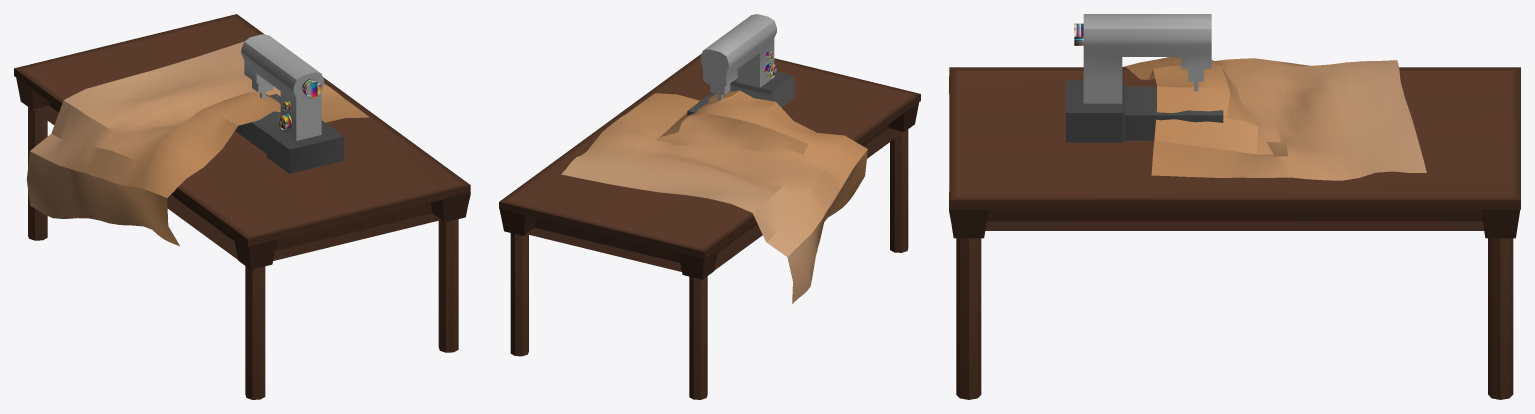
Rendered from SM_SkinTable.fbx.
3 renders of one model, left to right at view 1: azimuth 30°, elevation 25°; view 2: azimuth 150°, elevation 25°; view 3: azimuth 270°, elevation 25°, orthographic. The views are drawn at different scales.
Parts seen in each view (by area): view 1: SM_SkinTable; view 2: SM_SkinTable; view 3: SM_SkinTable.
Part boxes in pixels (x1,y1,x2,y2): SM_SkinTable: (14,14,470,399); SM_SkinTable: (499,14,920,399); SM_SkinTable: (949,14,1520,399).
Size of the model in its own units: 101 by 95.95 by 155.
